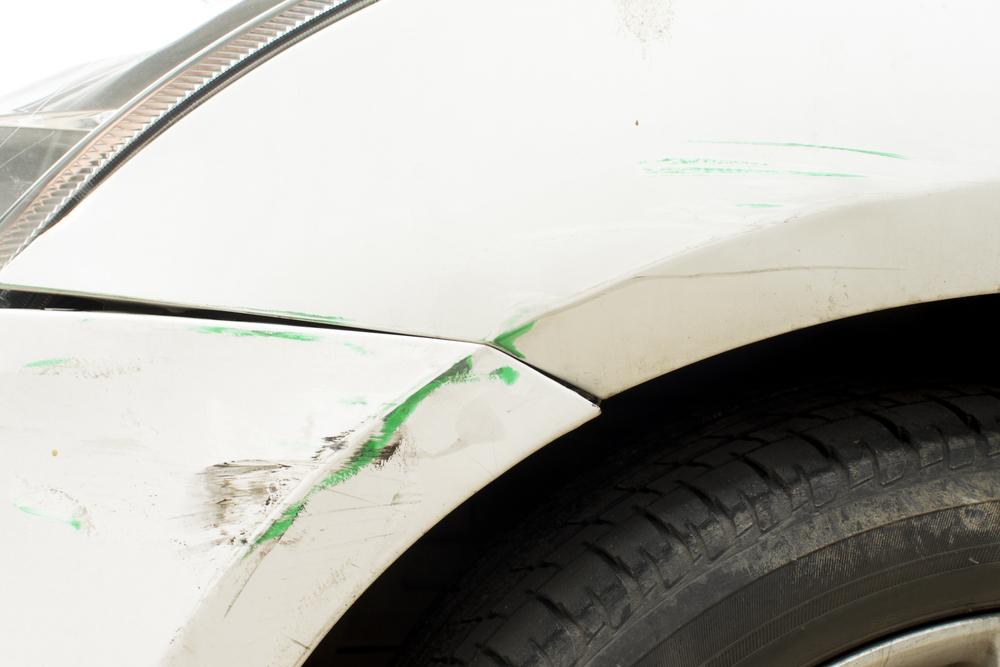scratch: (0, 322, 537, 567), (631, 117, 918, 204)
